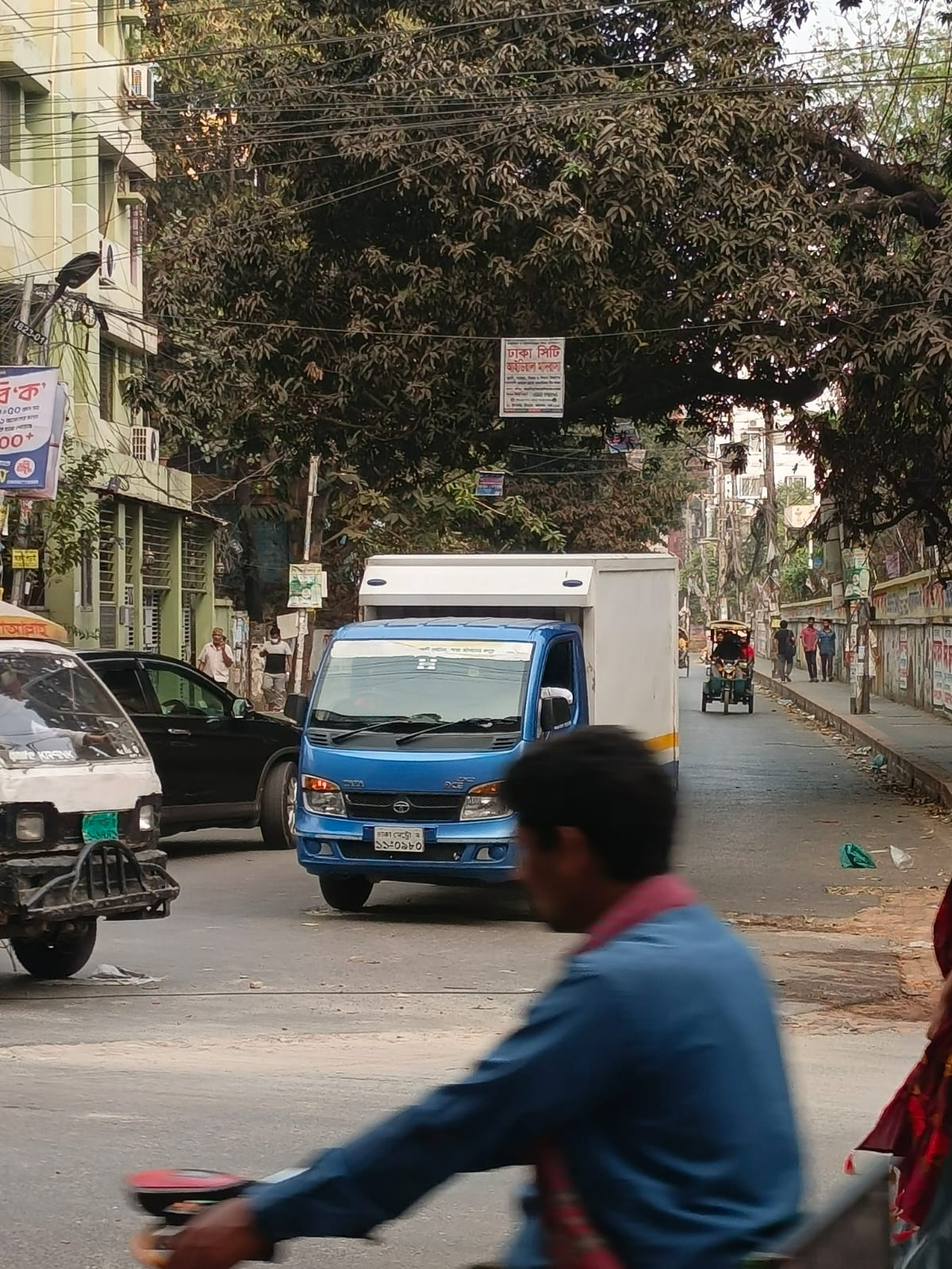Pickup: (270, 525, 711, 930)
